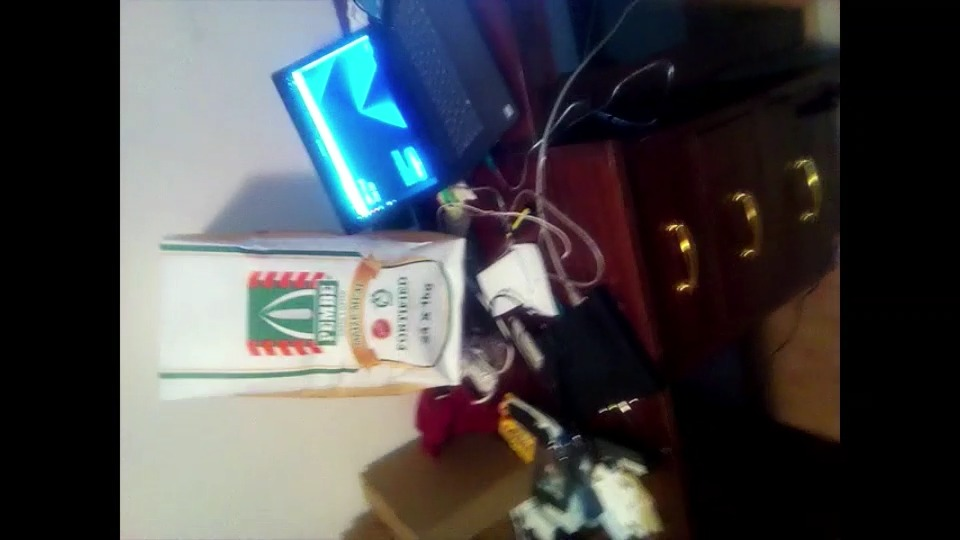maize_flour_green_label: (158, 228, 467, 394)
